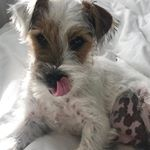puppy: (1, 1, 118, 109)
